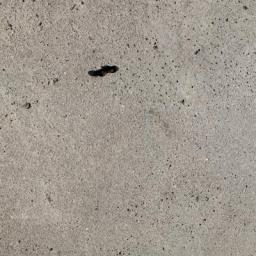FOD: (88, 63, 124, 84)
